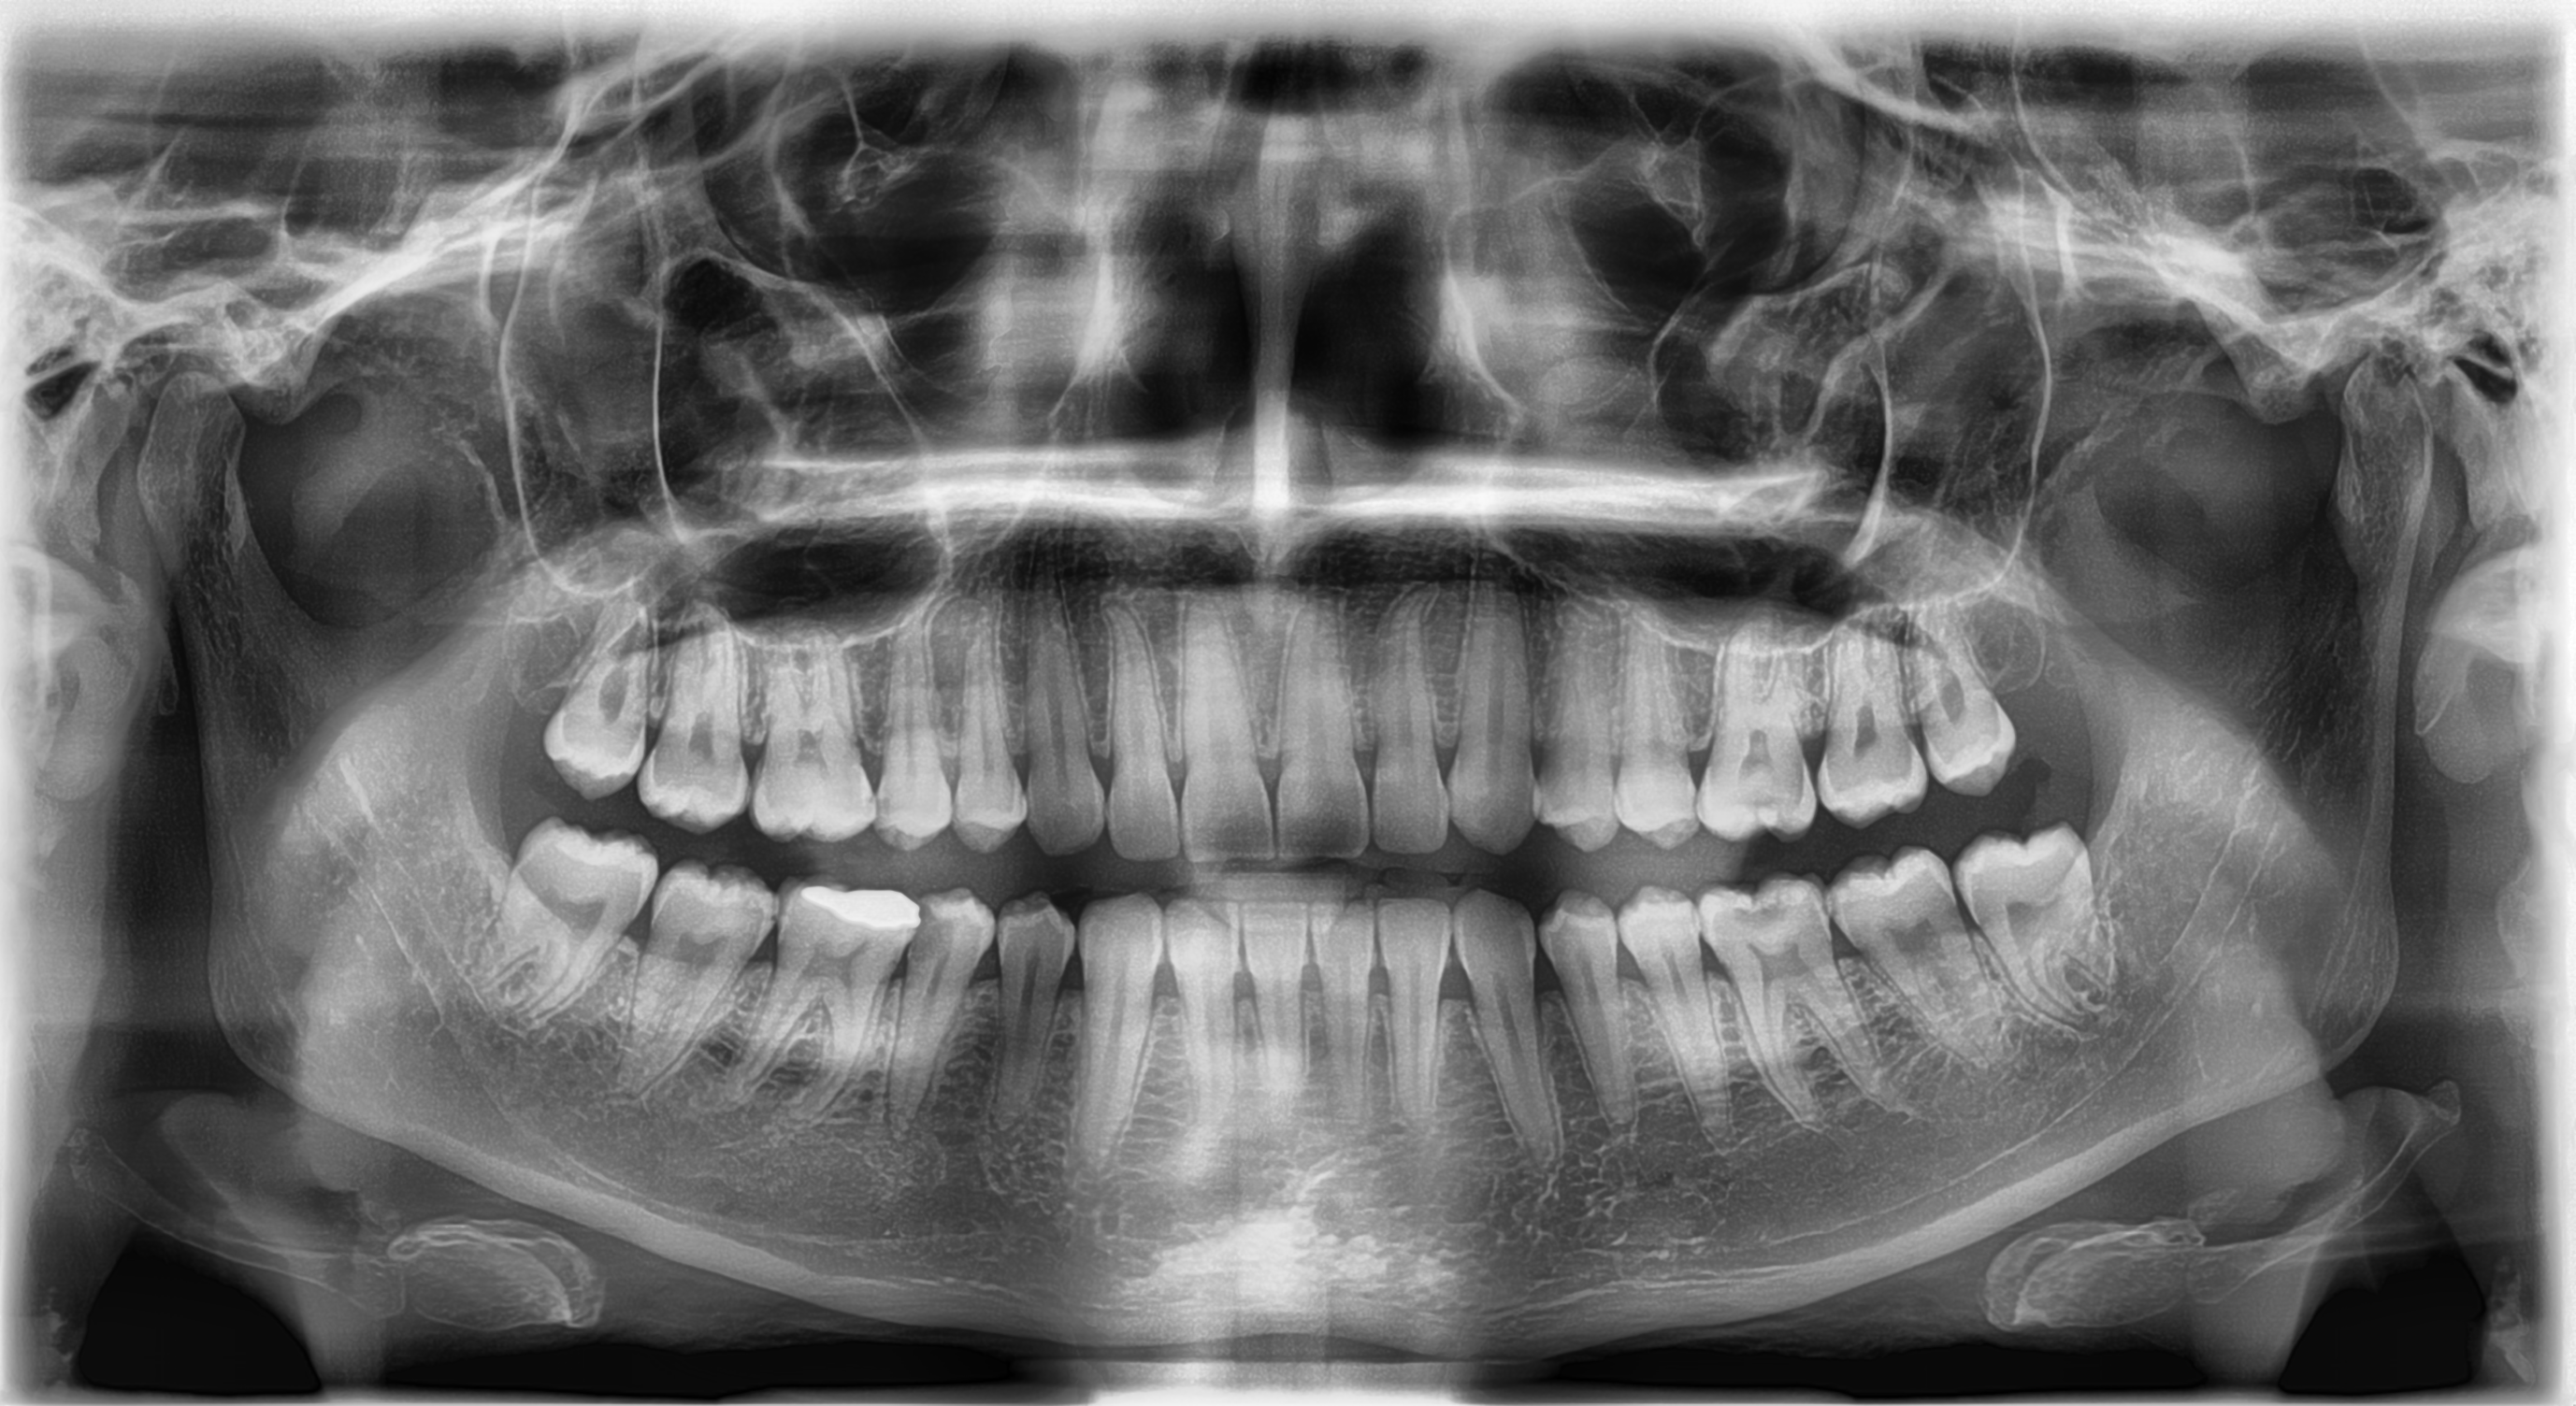cordal: (445, 793, 670, 1032), (1939, 805, 2164, 1044), (483, 578, 708, 817), (1868, 577, 2093, 814)
dientes_sanos: (360, 521, 2211, 1124)
